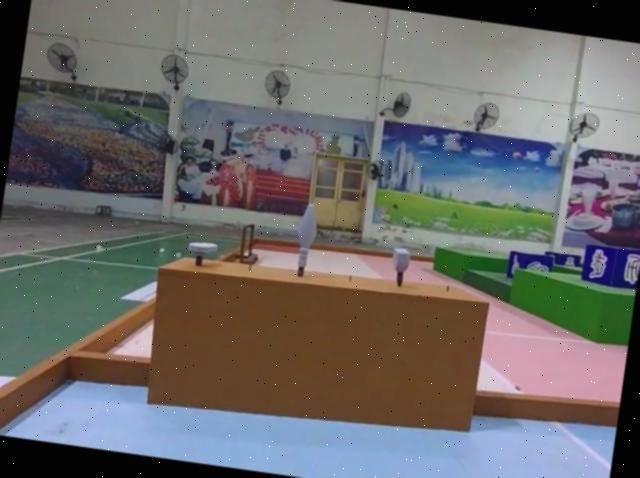Fist: (386, 246, 412, 286)
Hand: (186, 238, 220, 268)
Sph: (286, 202, 322, 279)
